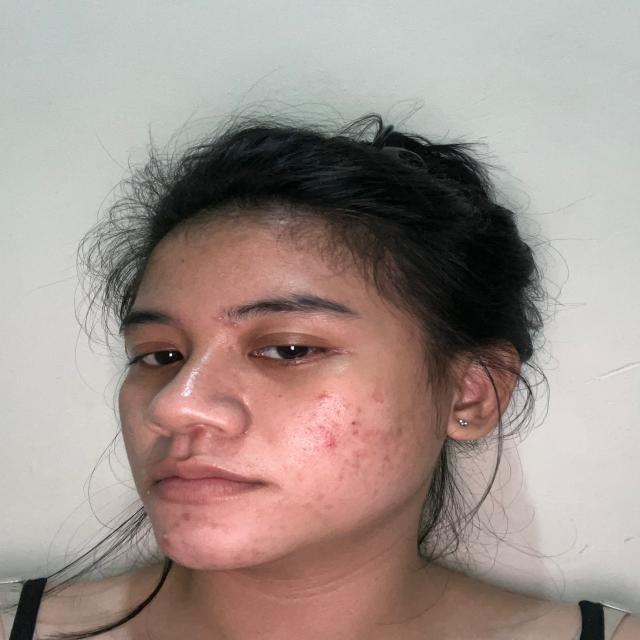Acne: (300, 382, 350, 460), (148, 520, 208, 561), (382, 421, 420, 472), (204, 302, 247, 346)
